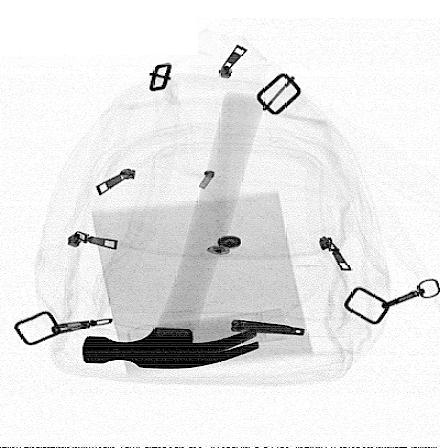Hammer: (81, 92, 265, 368)
